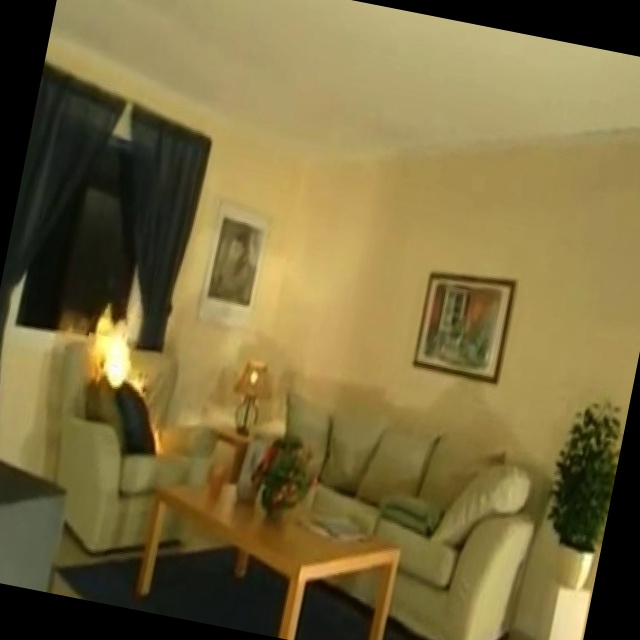fire: (50, 293, 199, 483)
